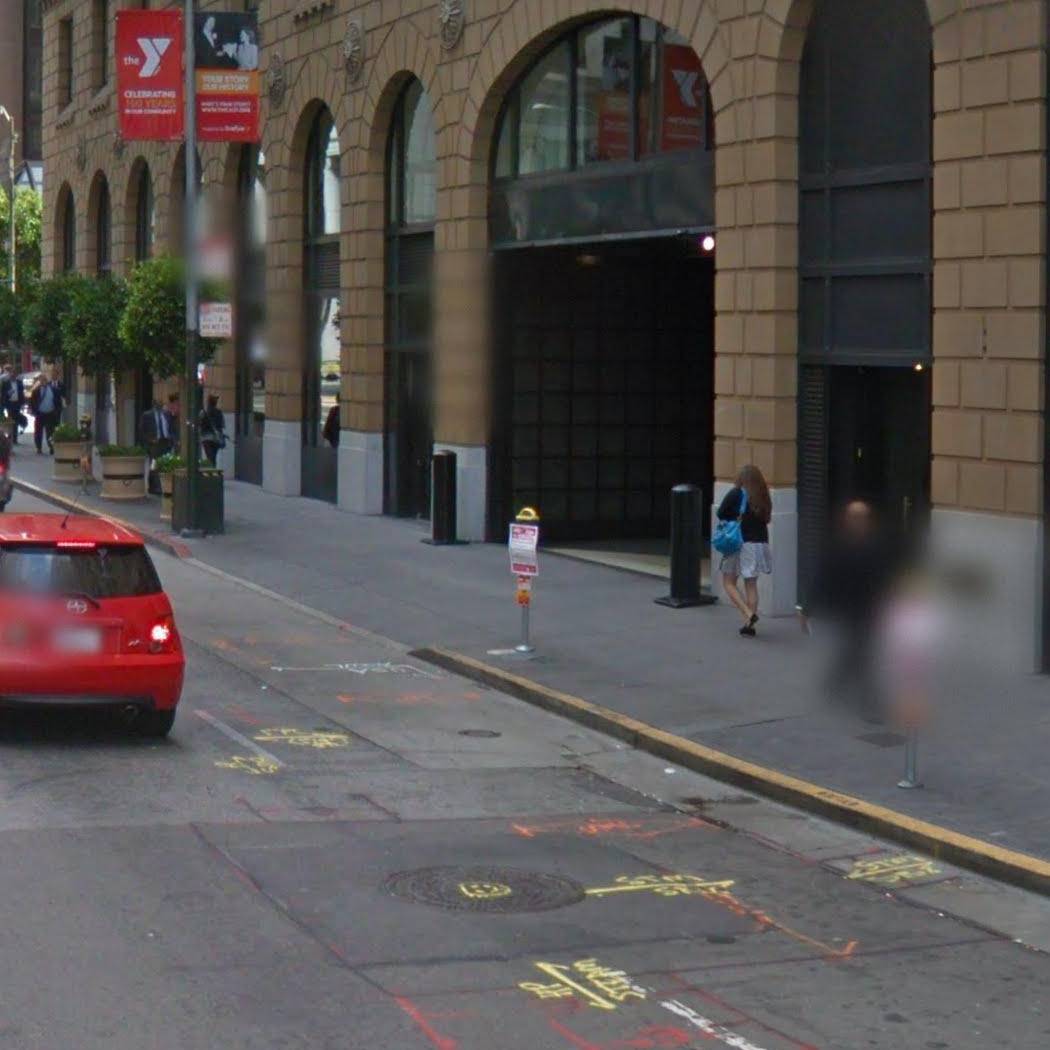No Parking: (197, 301, 234, 339)
